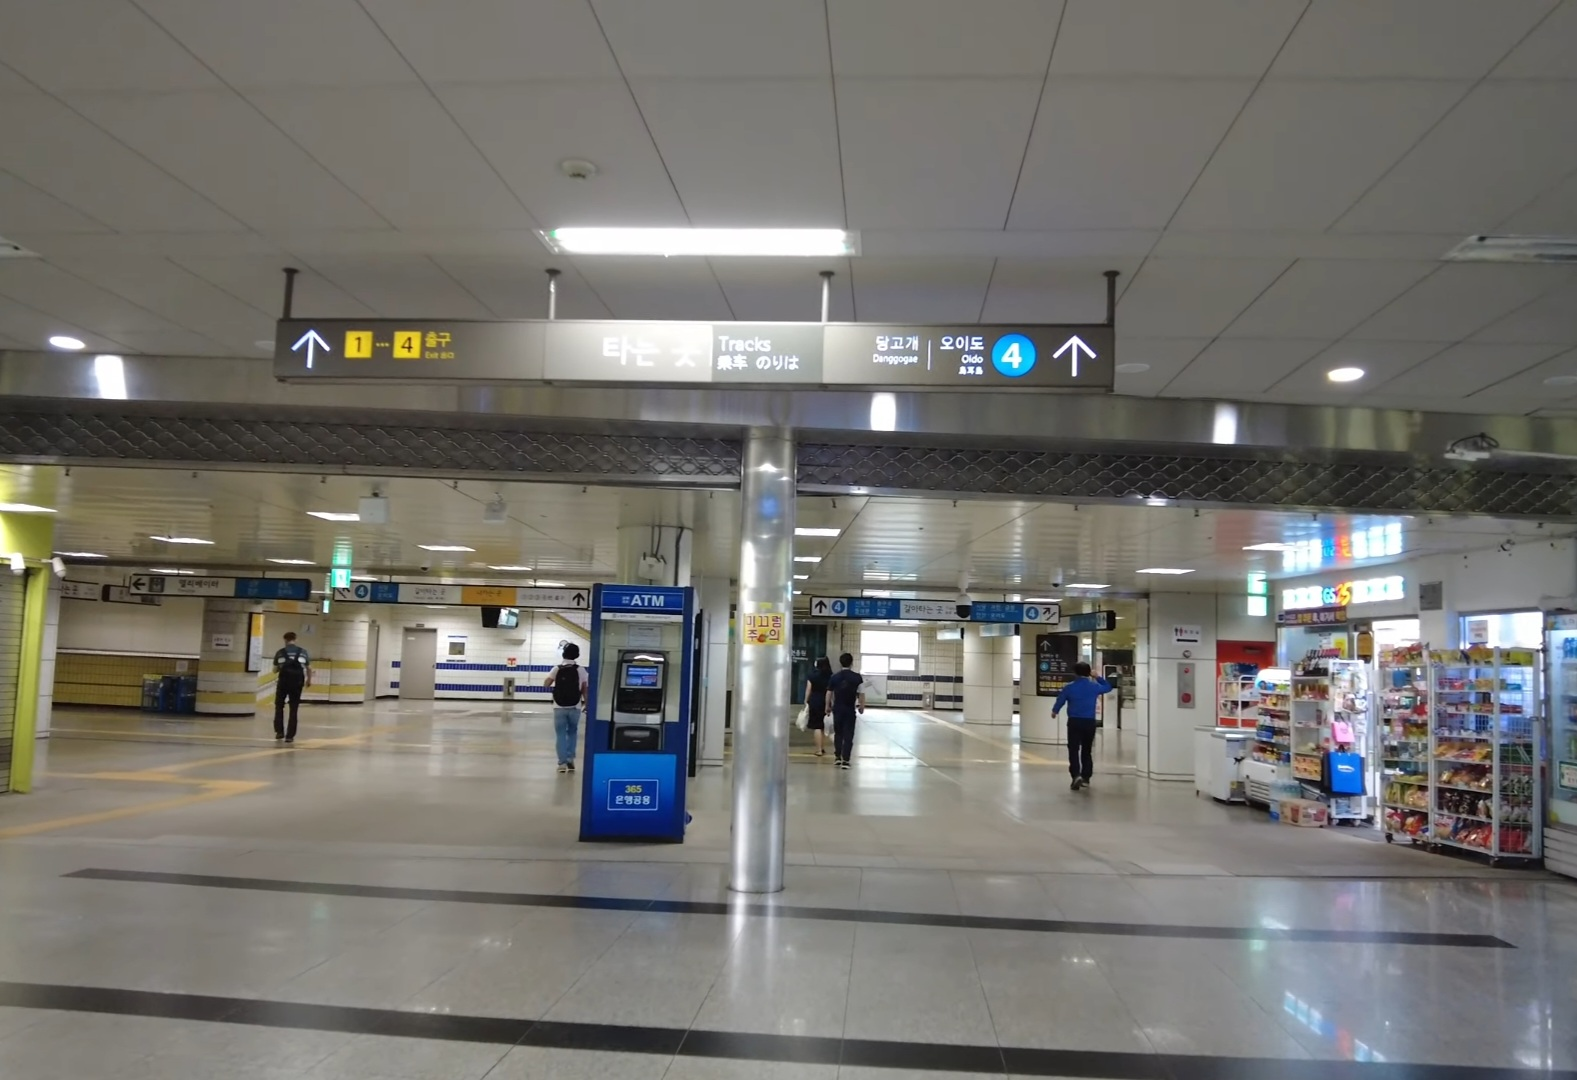signBoard: (259, 273, 1149, 403)
